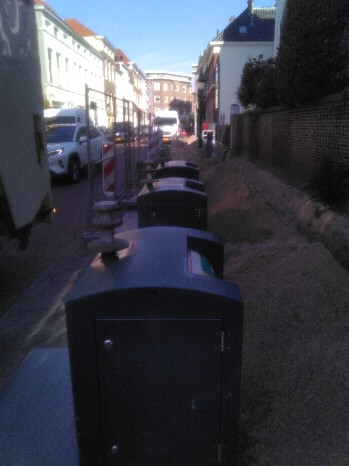Container: (69, 225, 258, 466), (135, 176, 202, 237), (153, 160, 201, 185)
